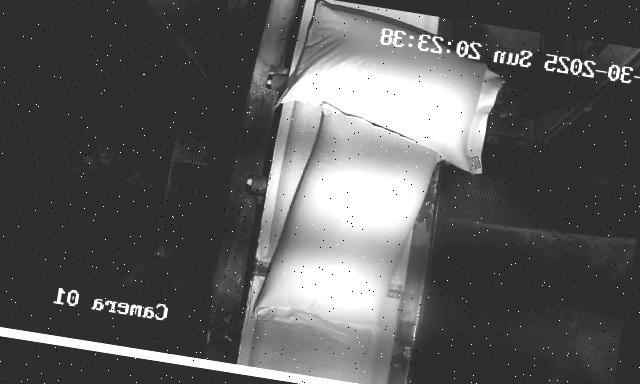bag: (249, 97, 446, 346), (267, 0, 511, 175)
